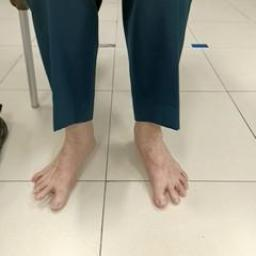Front View -Both Feet-: (11, 105, 226, 225)
